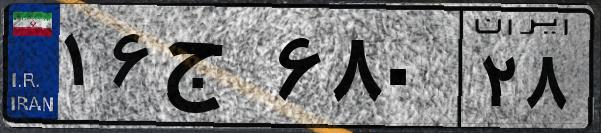0: (385, 28, 445, 110)
1: (57, 26, 110, 100)
2: (475, 38, 525, 113)
6: (270, 28, 330, 110), (110, 28, 158, 98)
8: (330, 28, 385, 110), (525, 38, 570, 115)
ج: (158, 20, 270, 120)
